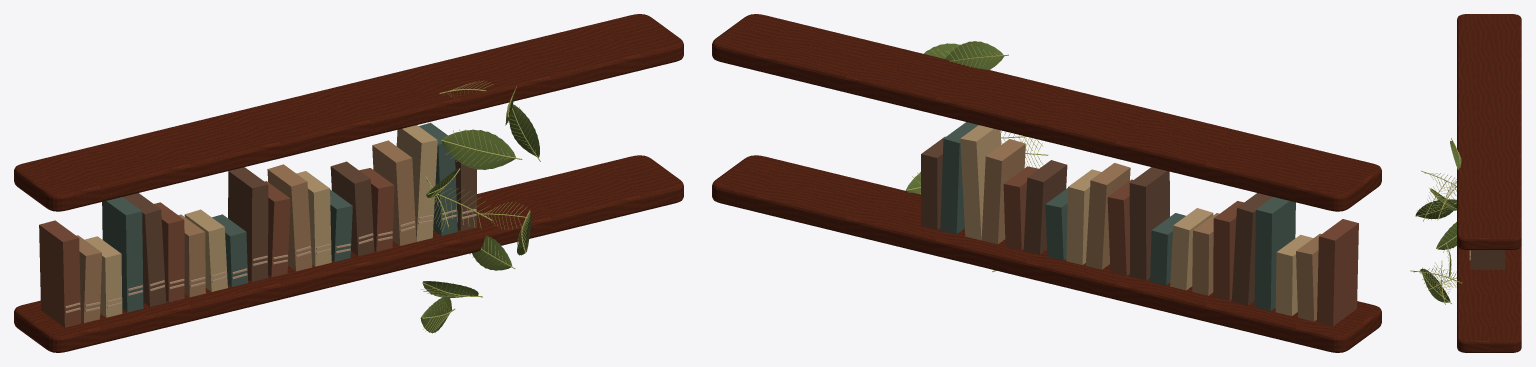
Rendered from shelf_props.glb.
3 views of the same model, side by side, from view 1: azimuth 30°, elevation 25°; view 2: azimuth 150°, elevation 25°; view 3: azimuth 270°, elevation 25° (orthographic). The views are drawn at different scales.
Parts seen in each view (by area): view 1: shelf_props, leaf (×5); view 2: shelf_props, leaf; view 3: shelf_props, leaf (×10).
Part boxes in pixels (left/top/right/bottom): shelf_props: left=14, top=14, right=683, bottom=352; leaf (×5): left=420, top=104, right=540, bottom=333; shelf_props: left=712, top=14, right=1381, bottom=352; leaf: left=945, top=41, right=1008, bottom=70; shelf_props: left=1457, top=14, right=1521, bottom=352; leaf (×10): left=1410, top=138, right=1461, bottom=304.
Bounding box in the file's own units: 7.06 × 2.48 × 1.48.
24 materials, 1 textured.
